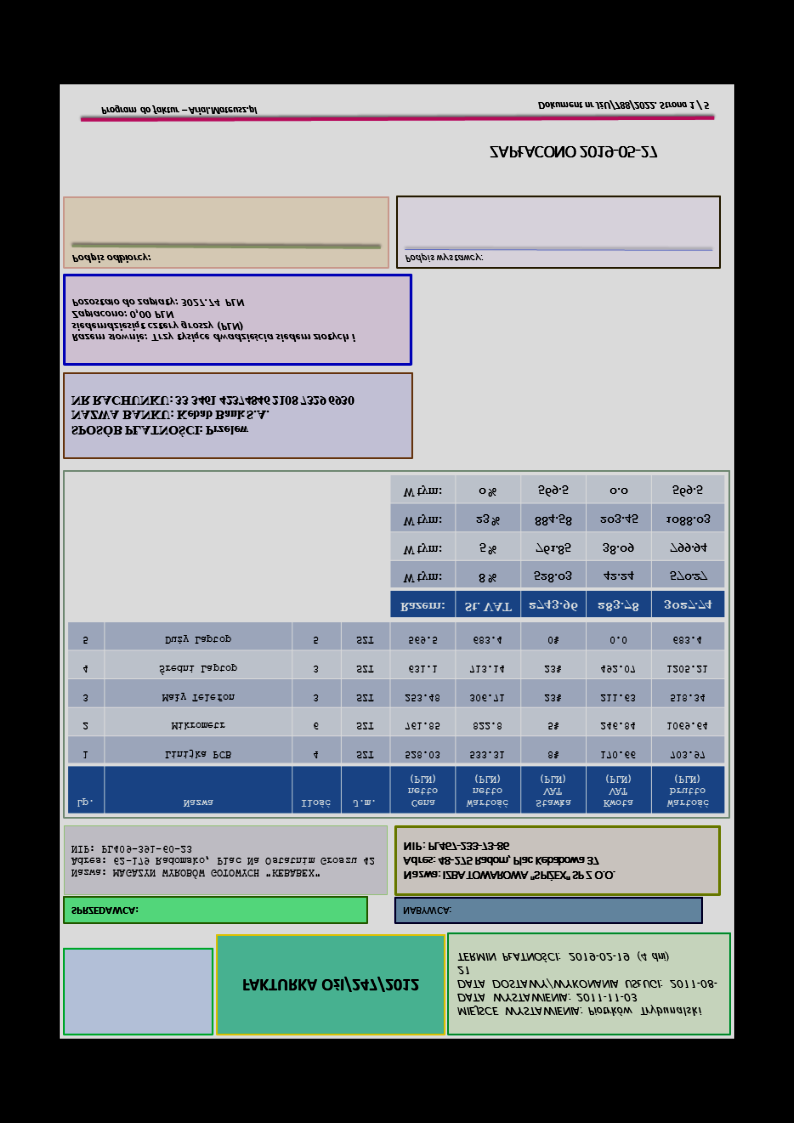Table: (66, 621, 725, 816), (389, 474, 725, 618)
TextBox: (453, 950, 718, 1019), (70, 296, 359, 344), (70, 393, 355, 440), (69, 842, 376, 879), (400, 840, 615, 882), (240, 975, 421, 994), (487, 144, 660, 162), (536, 99, 711, 112), (97, 104, 260, 117), (69, 252, 151, 265), (69, 903, 139, 917), (404, 253, 484, 264), (400, 903, 452, 918)
